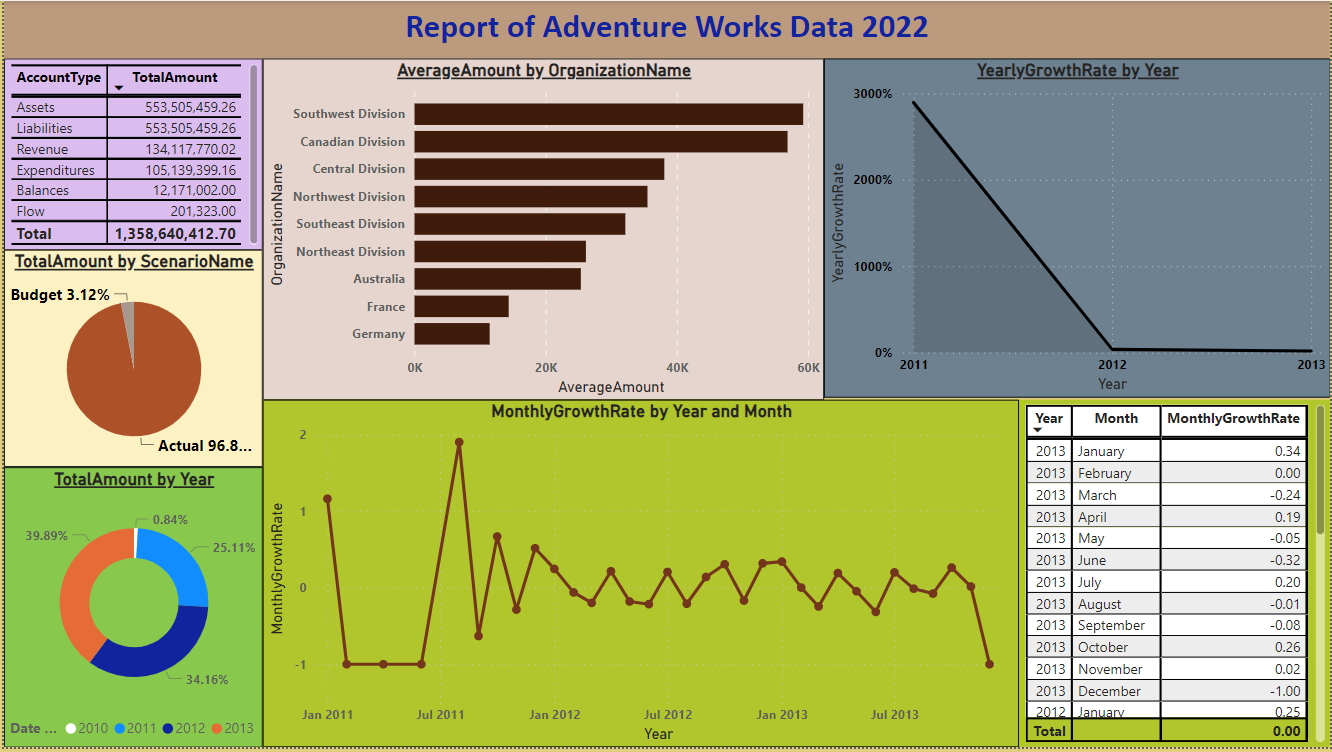

Layout of this report page (visuals, bound fields, positions):
{"tool":"powerbi","page":{"name":"Page 1","canvas":[1280,720],"ordinal":0},"visuals":[{"type":"tableEx","fields":{"Values":["DimAccount.AccountType","FactFinance.TotalAmount"]},"box":[0,55.5,249.6,184.5],"z":0},{"type":"textbox","box":[0,0,1279.6,55.5],"z":1000},{"type":"pieChart","fields":{"Y":["FactFinance.TotalAmount"],"Category":["DimScenario.ScenarioName"]},"box":[0,240,249.6,209.8],"z":2000},{"type":"clusteredBarChart","fields":{"Category":["DimOrganization.OrganizationName"],"Y":["FactFinance.AverageAmount"]},"box":[249.6,55.5,541.5,329.2],"z":3000},{"type":"donutChart","fields":{"Category":["FactFinance.Date.Variation.Date Hierarchy.Year"],"Y":["FactFinance.TotalAmount"]},"box":[0,449.8,249.6,270.2],"z":4000},{"type":"areaChart","fields":{"Y":["FactFinance.YearlyGrowthRate"],"Category":["FactFinance.Date.Variation.Date Hierarchy.Year"]},"box":[791.2,55.5,488.4,326.8],"z":5000},{"type":"lineChart","fields":{"Y":["FactFinance.MonthlyGrowthRate1"],"Category":["FactFinance.Date.Variation.Date Hierarchy.Year","FactFinance.Date.Variation.Date Hierarchy.Month"]},"box":[249.6,384.7,729.6,335.3],"z":6000},{"type":"tableEx","fields":{"Values":["FactFinance.Date.Variation.Date Hierarchy.Year","FactFinance.Date.Variation.Date Hierarchy.Month","FactFinance.MonthlyGrowthRate"]},"box":[979.3,384.7,300.3,335.3],"z":7000}]}

Visuals, with their boxes in screenshot pixels (x1, y1, x2, y2), scaled from the page's 1280x720 canvas onto the 1332x752 screenshot:
tableEx - DimAccount.AccountType x FactFinance.TotalAmount: box=[0, 58, 260, 251]
textbox: box=[0, 0, 1331, 58]
pieChart - FactFinance.TotalAmount x DimScenario.ScenarioName: box=[0, 251, 260, 470]
clusteredBarChart - DimOrganization.OrganizationName x FactFinance.AverageAmount: box=[260, 58, 823, 402]
donutChart - FactFinance.Date.Variation.Date Hierarchy.Year x FactFinance.TotalAmount: box=[0, 470, 260, 751]
areaChart - FactFinance.YearlyGrowthRate x FactFinance.Date.Variation.Date Hierarchy.Year: box=[823, 58, 1331, 399]
lineChart - FactFinance.MonthlyGrowthRate1 x FactFinance.Date.Variation.Date Hierarchy.Year: box=[260, 402, 1019, 751]
tableEx - FactFinance.Date.Variation.Date Hierarchy.Year x FactFinance.Date.Variation.Date Hierarchy.Month: box=[1019, 402, 1331, 751]
